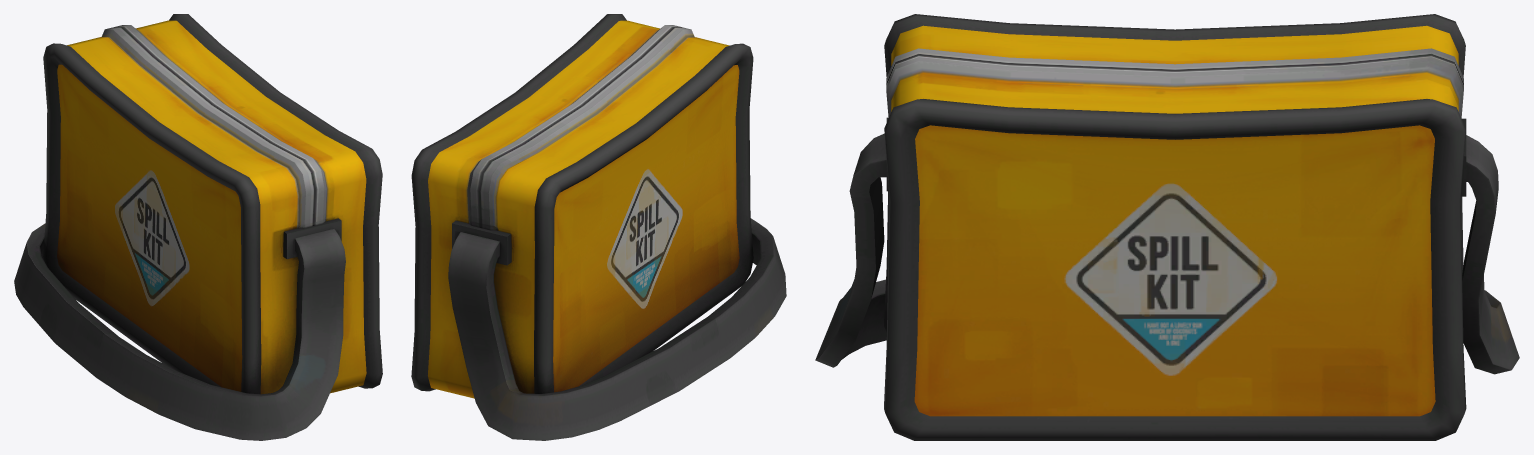
File: spill_kit_bag.glb
The picture shows the model from 3 angles, left to right: view 1: azimuth 30°, elevation 25°; view 2: azimuth 150°, elevation 25°; view 3: azimuth 270°, elevation 25°; orthographic projection. The views are drawn at different scales.
Parts seen in each view (by area): view 1: spill_kit_bag; view 2: spill_kit_bag; view 3: spill_kit_bag.
Boxes of the visible parts, bbox=[...] form: spill_kit_bag: bbox=[14, 14, 382, 440]; spill_kit_bag: bbox=[411, 14, 786, 440]; spill_kit_bag: bbox=[815, 14, 1519, 440].
Bounding box in the file's own units: 0.3015 × 0.351 × 0.6489.
Materials: 1 (1 with a texture image).
